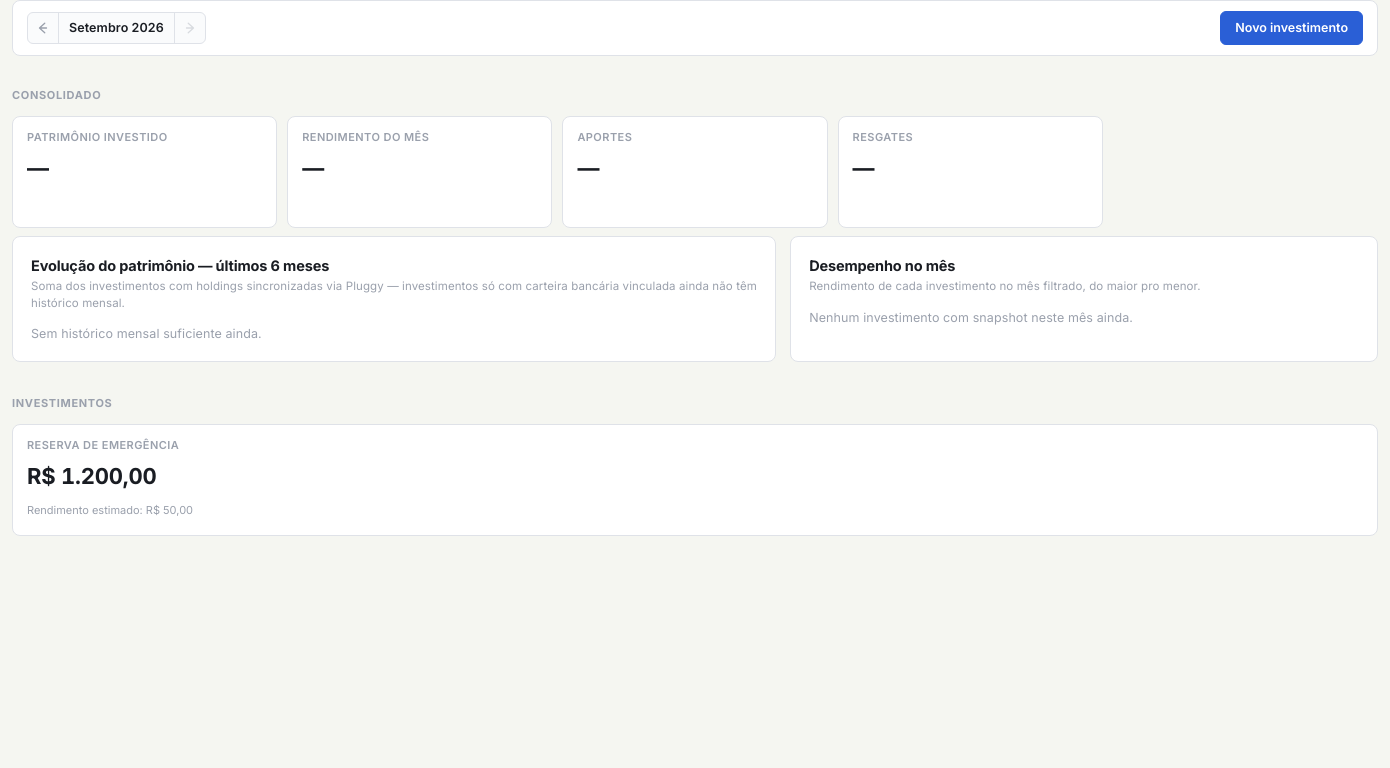
Test: InvestimentosPage › shows an empty state for Série histórica when no snapshot exists yet
The image size is (1390, 768).
expect the text "Reserva de emergência" is shown: met, box [27,438,179,454]
Click the button "Reserva de emergência".
click(695, 480)  # box [12,424,1378,536]
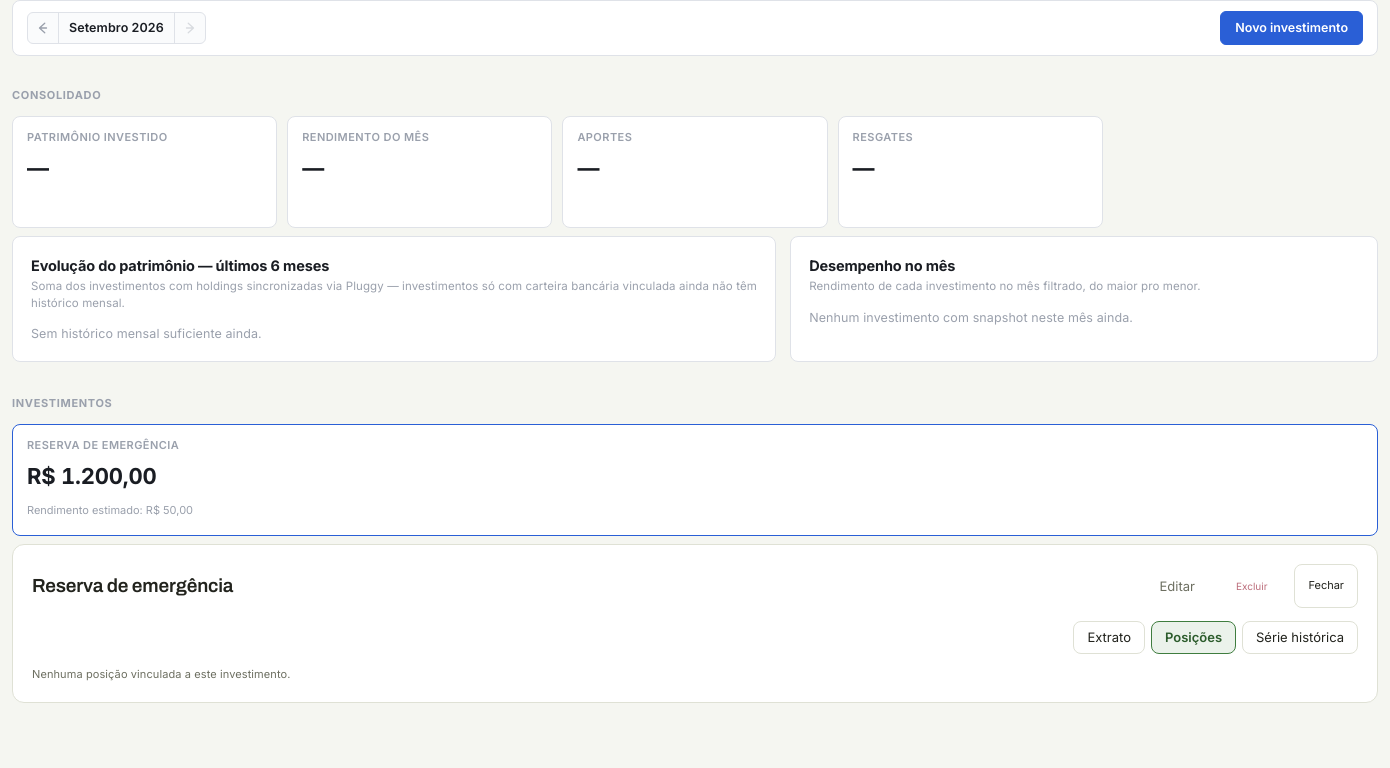
Click the button "Série histórica".
click(1300, 638)  # box [1242,621,1358,654]
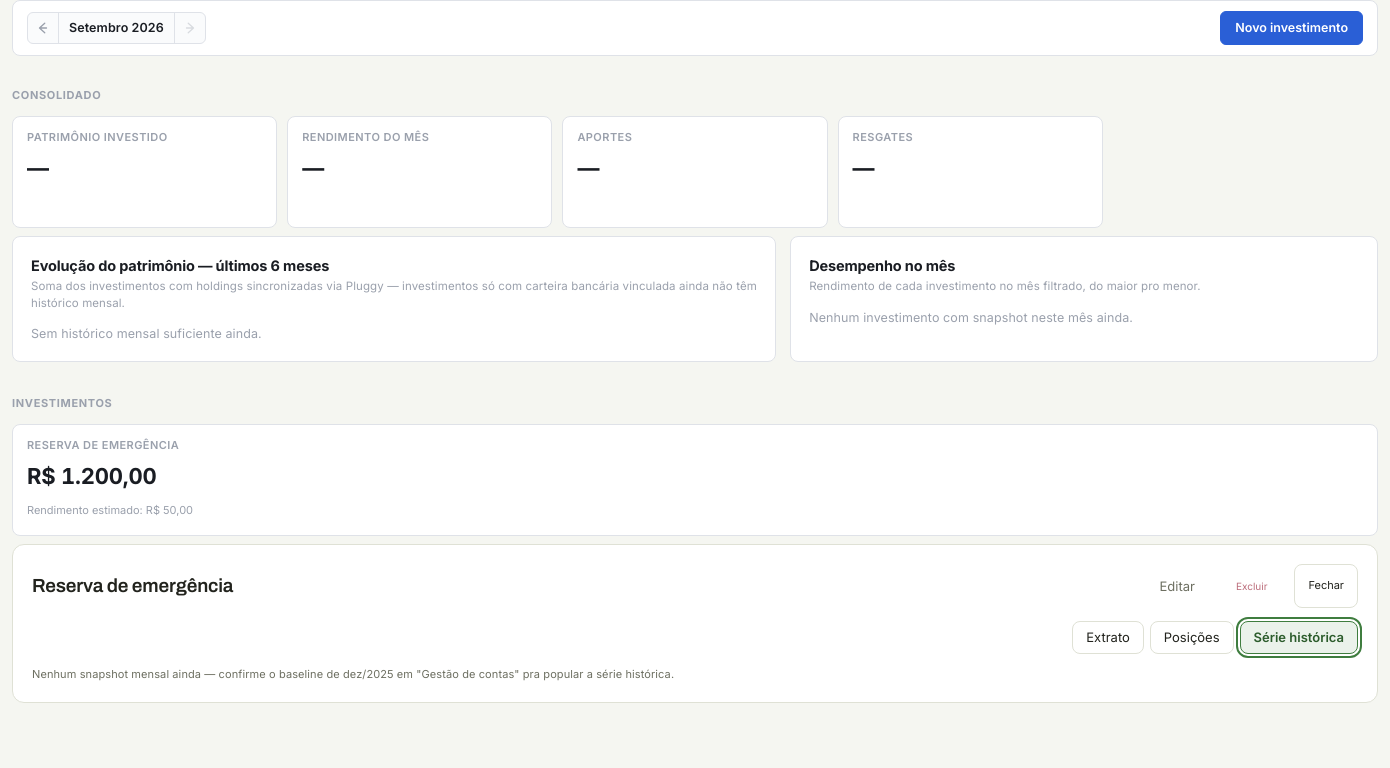
expect the text "Nenhum snapshot mensal ainda" is shown: met, box [32,667,674,681]
